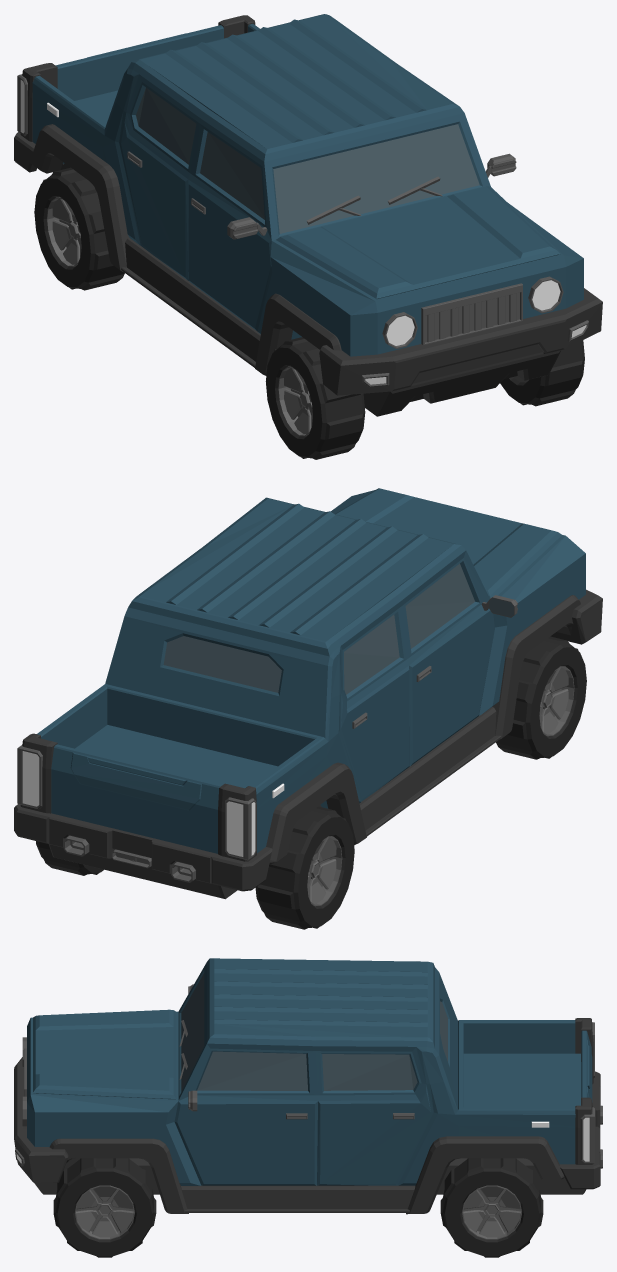
File: expedicao.glb
The picture shows the model from 3 angles, top to bottom: view 1: azimuth 30°, elevation 25°; view 2: azimuth 150°, elevation 25°; view 3: azimuth 270°, elevation 25°; orthographic projection. The views are drawn at different scales.
Parts seen in each view (by area): view 1: Object550; view 2: Object550; view 3: Object550.
Boxes of the visible parts, x1,y1,x2,y2 form: Object550: [14, 14, 602, 459]; Object550: [14, 488, 602, 929]; Object550: [14, 958, 602, 1257].
Size of the model in its own units: 2.38 by 2.02 by 5.09.
1 material, 1 textured.
